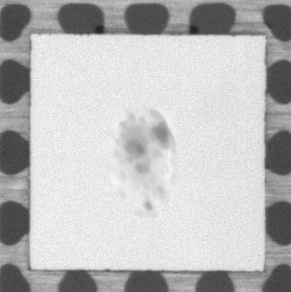DIE_INK: (103, 104, 178, 221)
